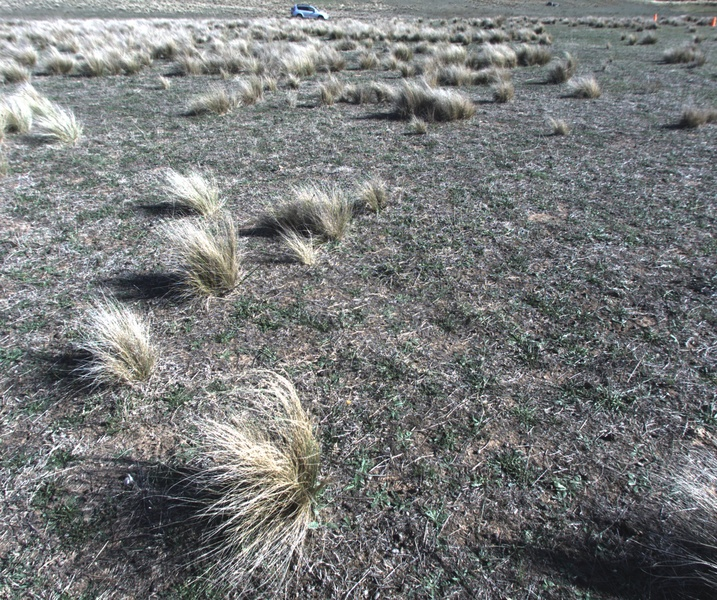st: (191, 383, 328, 572), (68, 302, 164, 388), (655, 440, 717, 572), (186, 212, 236, 304), (294, 181, 350, 243), (159, 166, 227, 213), (274, 227, 314, 270), (46, 109, 86, 149), (16, 80, 55, 120), (436, 86, 467, 124), (391, 92, 435, 118), (1, 95, 27, 136), (675, 103, 708, 132), (362, 174, 390, 207), (541, 60, 576, 86), (662, 42, 703, 62), (566, 77, 603, 99), (198, 94, 233, 117), (432, 65, 468, 87), (317, 78, 346, 105), (475, 46, 512, 66), (619, 27, 656, 46), (242, 76, 266, 105), (80, 52, 105, 78), (489, 80, 515, 102), (545, 116, 571, 137), (517, 46, 541, 68), (438, 44, 463, 65), (175, 53, 200, 74), (47, 54, 70, 75), (356, 50, 377, 72), (283, 74, 306, 91), (391, 40, 407, 63), (348, 82, 363, 104), (400, 62, 422, 76), (259, 76, 279, 91), (414, 39, 430, 57), (159, 73, 173, 91)
